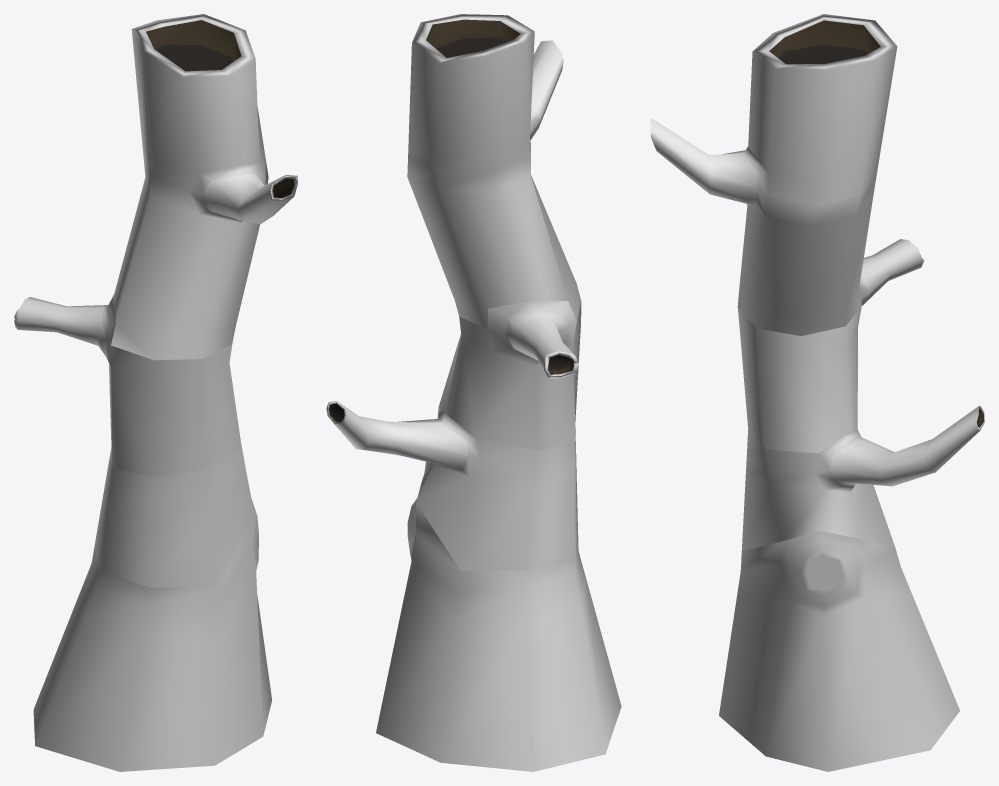
The model's file is Parte_Tronco_C.fbx.
The picture shows the model from 3 angles, left to right: view 1: azimuth 30°, elevation 25°; view 2: azimuth 150°, elevation 25°; view 3: azimuth 270°, elevation 25°; orthographic projection.
Visible parts, largest first — view 1: Ponta, Base, Parte2, Parte1; view 2: Base, Ponta, Parte1, Parte2; view 3: Ponta, Base, Parte1, Parte2.
Boxes of the visible parts, x1,y1,x2,y2 form: Ponta: [111, 14, 297, 360]; Base: [33, 499, 272, 771]; Parte2: [14, 294, 241, 476]; Parte1: [94, 447, 254, 587]; Base: [376, 476, 621, 771]; Ponta: [407, 14, 581, 329]; Parte1: [326, 401, 577, 570]; Parte2: [438, 301, 581, 450]; Ponta: [650, 14, 897, 336]; Base: [719, 531, 959, 771]; Parte1: [742, 406, 984, 551]; Parte2: [737, 239, 924, 453].
Size of the model in its own units: 0.0378 by 0.1099 by 0.0478.
